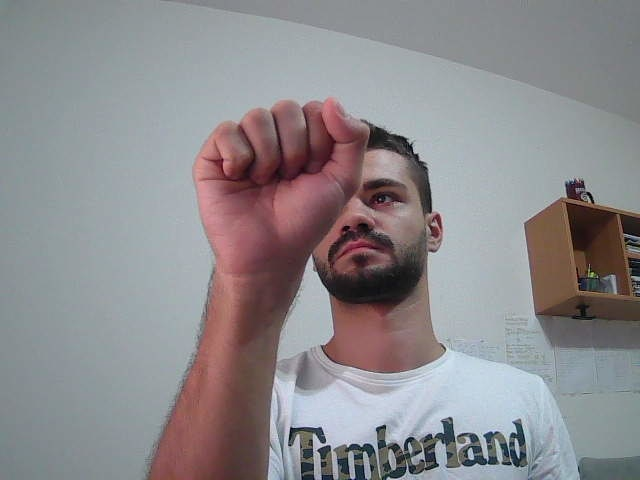a: (137, 88, 379, 433)
